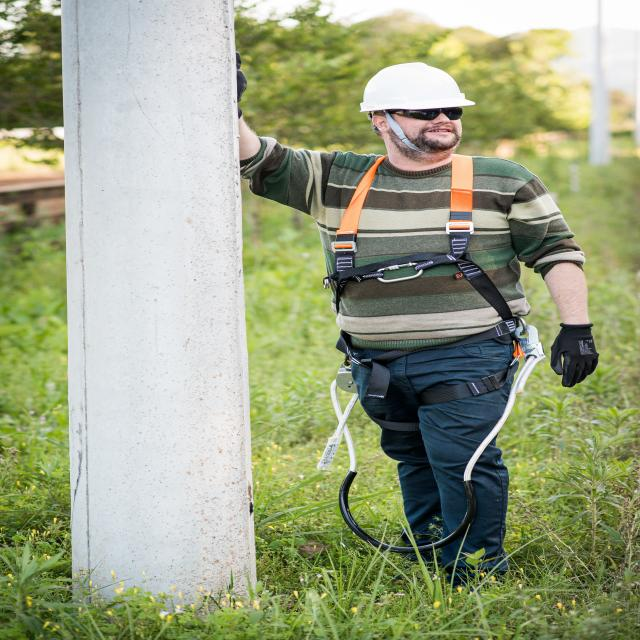capacete: (356, 57, 480, 116)
corda de vida: (315, 148, 545, 436)
luva: (545, 320, 601, 388)
